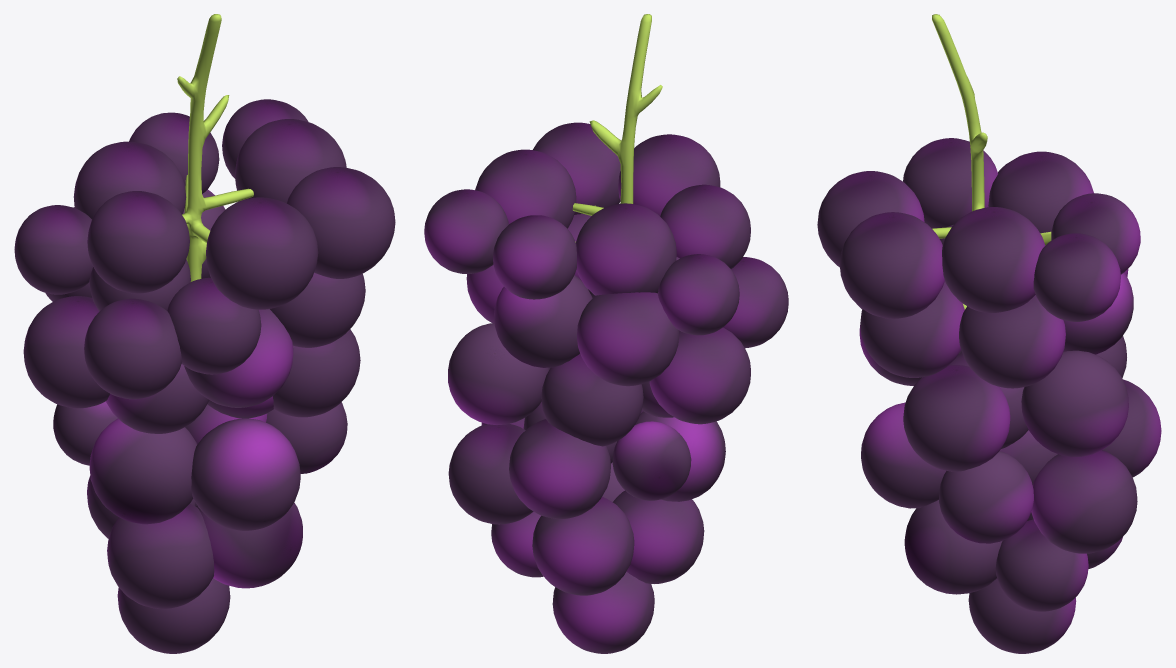
The model's file is Grape.fbx.
3 renders of one model, left to right at view 1: azimuth 30°, elevation 25°; view 2: azimuth 150°, elevation 25°; view 3: azimuth 270°, elevation 25°, orthographic. The views are drawn at different scales.
Visible parts, largest first — view 1: grape; view 2: grape; view 3: grape.
Part boxes in pixels (<box>): grape: <box>14,14,395,653</box>; grape: <box>424,14,788,653</box>; grape: <box>817,14,1161,653</box>.
Size of the model in its own units: 14.73 by 30.1 by 14.82.
2 materials, 1 textured.
